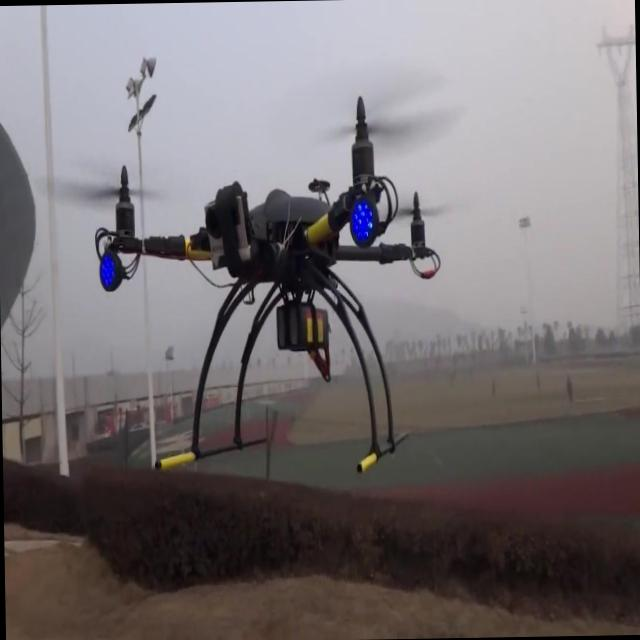drone: (90, 91, 444, 480)
